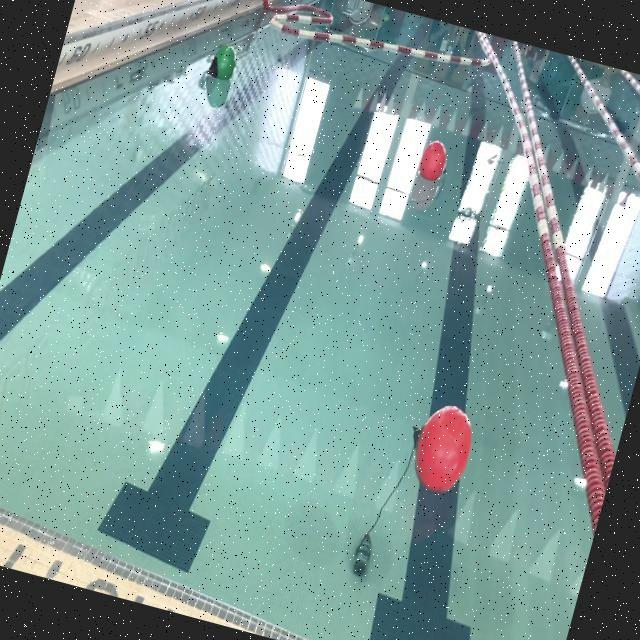buoy: (398, 399, 479, 497), (204, 38, 240, 90), (415, 136, 451, 185)
